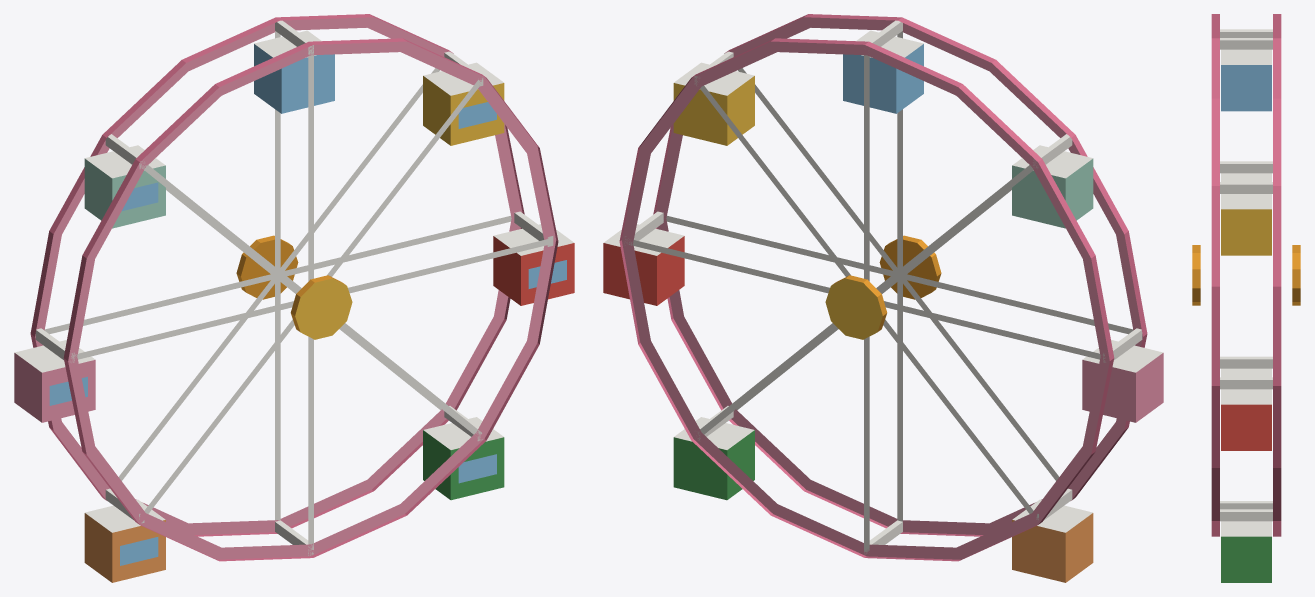
The model's file is X_FerrisWheelRoll.fbx.
3 views of the same model, side by side, from view 1: azimuth 30°, elevation 25°; view 2: azimuth 150°, elevation 25°; view 3: azimuth 270°, elevation 25° (orthographic). The views are drawn at different scales.
Parts seen in each view (by area): view 1: X_FerrisWheelRoll; view 2: X_FerrisWheelRoll; view 3: X_FerrisWheelRoll.
Part boxes in pixels (x1,y1,x2,y2): X_FerrisWheelRoll: [14, 14, 574, 582]; X_FerrisWheelRoll: [603, 14, 1163, 582]; X_FerrisWheelRoll: [1192, 14, 1300, 582].
Size of the model in its own units: 5.56 by 5.12 by 1.06.
